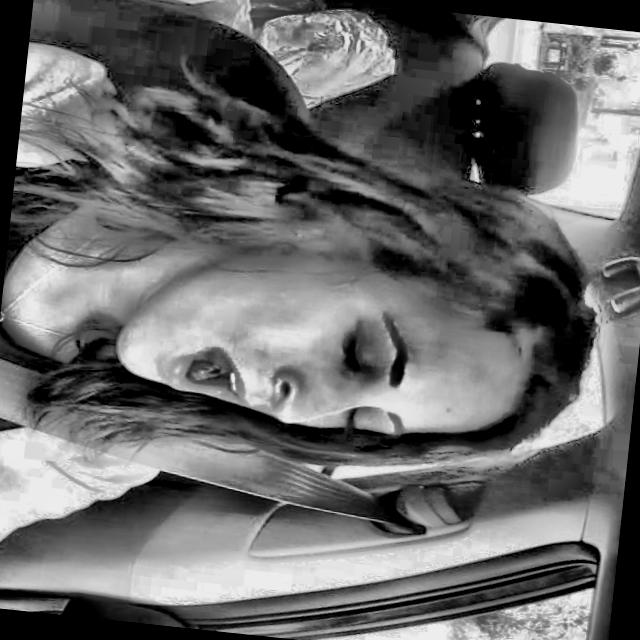closed_eyes: (322, 316, 375, 387), (326, 396, 377, 443)
open_mouth: (146, 333, 253, 419)
